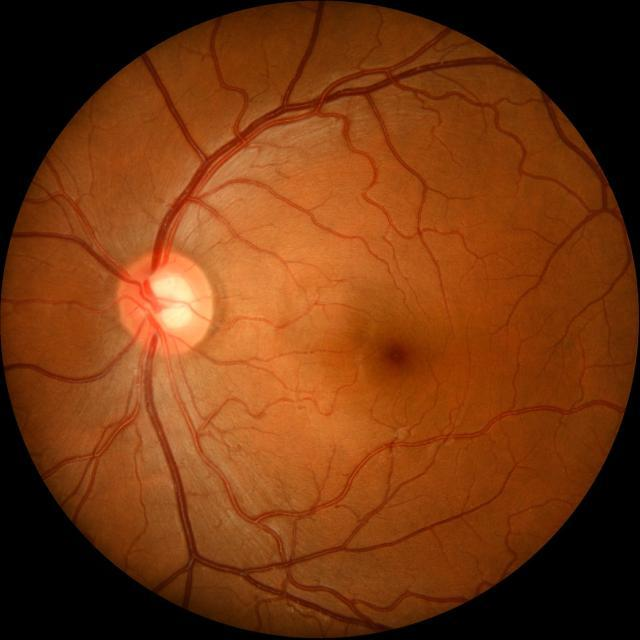OC: (144, 272, 192, 331)
OD: (116, 252, 212, 352)
